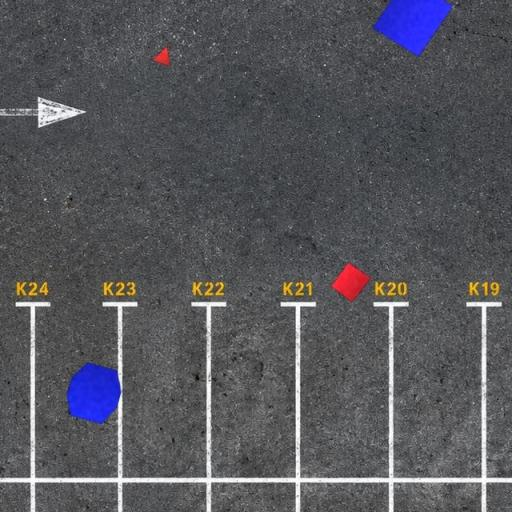BLUE_SQUARE: (372, 0, 454, 58)
RED_SQUARE: (330, 262, 372, 303)
